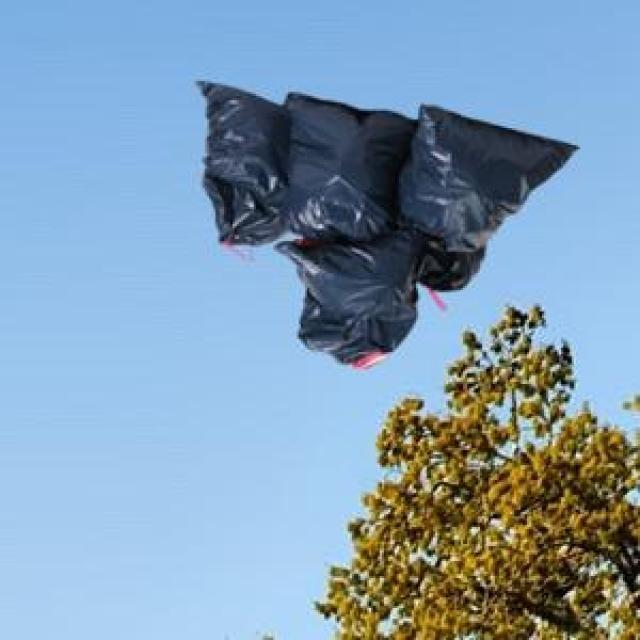miscellaneous trash: (192, 77, 574, 363)
